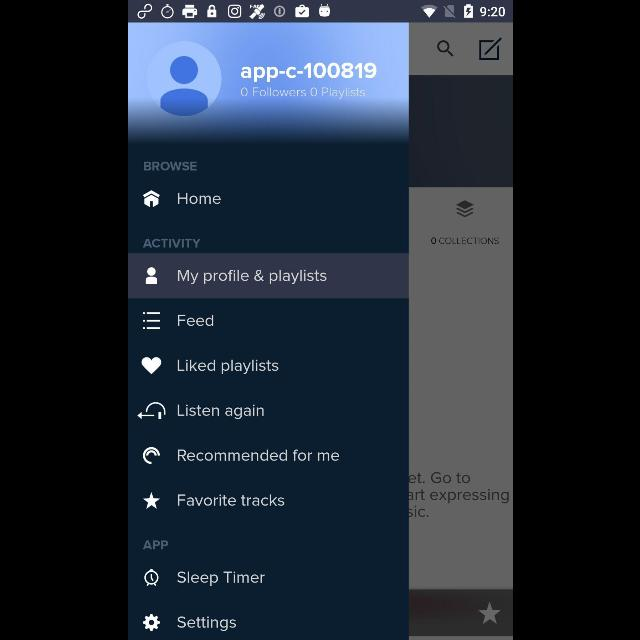icon: (146, 42, 220, 116), (477, 600, 501, 626), (478, 37, 502, 61), (136, 402, 166, 420), (141, 357, 161, 375), (142, 614, 160, 632), (142, 492, 160, 510), (142, 312, 160, 330), (142, 190, 160, 208), (437, 41, 453, 57), (144, 570, 158, 586), (145, 267, 157, 285)
image: (455, 200, 473, 218), (142, 447, 160, 465)
panel: (127, 22, 407, 640)
text: (240, 62, 376, 84), (176, 268, 326, 284), (177, 450, 339, 462), (176, 359, 278, 375), (240, 86, 364, 98), (176, 404, 264, 420), (176, 571, 264, 587), (176, 494, 284, 506), (177, 616, 236, 632), (142, 238, 200, 248), (177, 192, 221, 205), (430, 238, 498, 246), (143, 161, 197, 171), (177, 314, 213, 326), (142, 540, 168, 550)
uppertaskbar: (128, 1, 512, 23)
